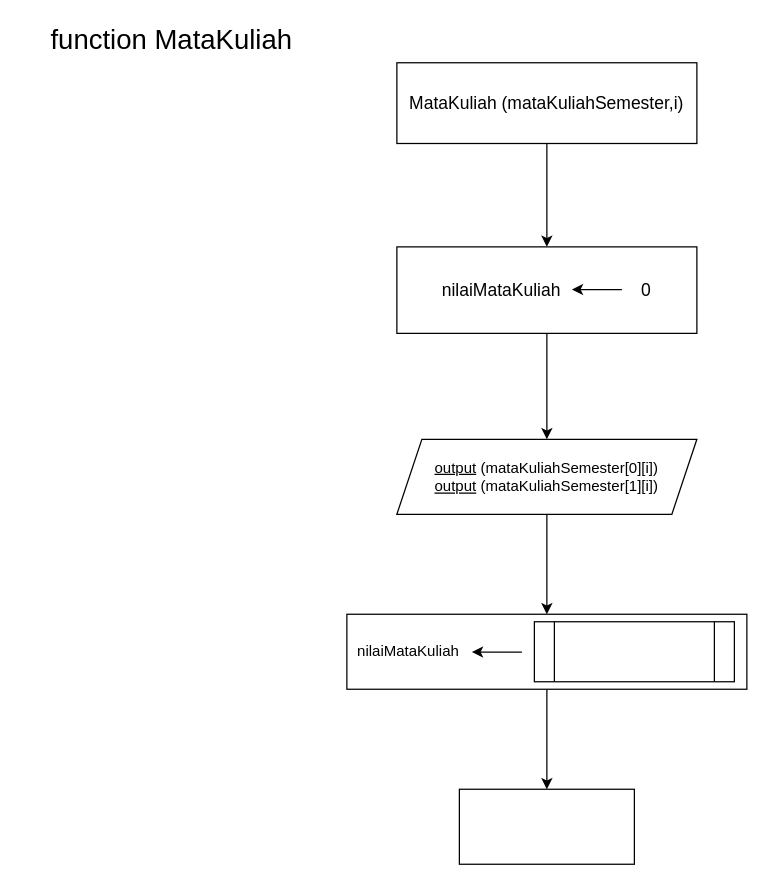
The diagram is 769 pixels wide and 886 high, and some of its shapes have lost their labels. Each missing label, with the centre of its shape:
"KomponenPenilaian()" goes at (x=633, y=651).
"return nilaiMataKuliah" goes at (x=546, y=826).
